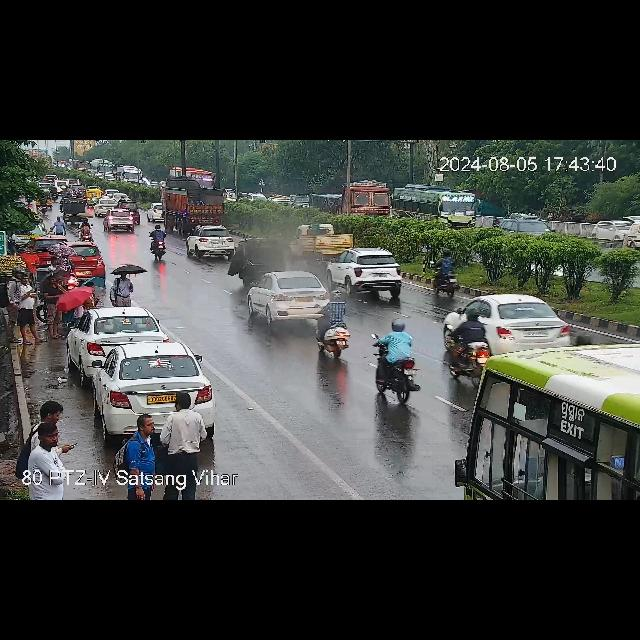bus: (452, 338, 640, 500), (386, 182, 478, 232), (115, 165, 142, 183), (90, 160, 114, 174)
car: (93, 346, 209, 424), (444, 293, 572, 351), (70, 306, 160, 366), (248, 272, 330, 331), (329, 248, 401, 296), (185, 228, 243, 260), (232, 238, 278, 274), (71, 244, 103, 276), (500, 216, 546, 234), (103, 208, 133, 232), (36, 233, 72, 247), (147, 200, 159, 222), (86, 187, 104, 201), (130, 202, 142, 222), (95, 198, 107, 215)
motorcycle: (366, 320, 420, 404), (440, 310, 490, 380), (315, 303, 353, 362), (430, 247, 458, 297), (146, 226, 170, 258), (61, 200, 91, 218), (78, 217, 94, 241), (115, 195, 136, 211), (68, 184, 84, 200), (40, 197, 48, 213), (58, 188, 68, 200), (51, 187, 59, 201)
person: (31, 398, 75, 468), (168, 394, 206, 462), (9, 270, 43, 340), (125, 412, 158, 468), (49, 276, 96, 310), (106, 270, 140, 308), (39, 217, 65, 236), (24, 246, 38, 270), (48, 255, 61, 272)
truck: (159, 177, 219, 233), (311, 180, 387, 216), (282, 221, 338, 263)
